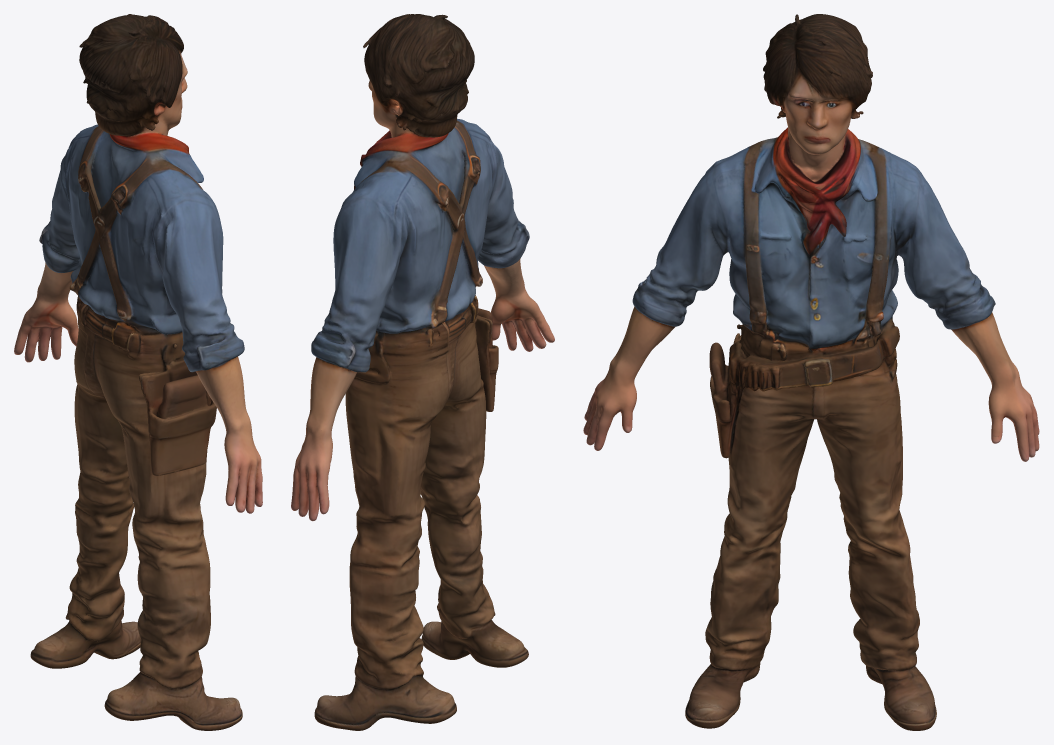
The model's file is kid_body_mesh.glb.
3 views of the same model, side by side, from view 1: azimuth 30°, elevation 25°; view 2: azimuth 150°, elevation 25°; view 3: azimuth 270°, elevation 25° (orthographic). The views are drawn at different scales.
Visible parts, largest first — view 1: tripo_node_f37e62f3-e1ef-4bf6-bfc5-476a842fdace; view 2: tripo_node_f37e62f3-e1ef-4bf6-bfc5-476a842fdace; view 3: tripo_node_f37e62f3-e1ef-4bf6-bfc5-476a842fdace.
Boxes of the visible parts, x1=… form: tripo_node_f37e62f3-e1ef-4bf6-bfc5-476a842fdace: x1=14, y1=14, x2=262, y2=730; tripo_node_f37e62f3-e1ef-4bf6-bfc5-476a842fdace: x1=291, y1=14, x2=554, y2=730; tripo_node_f37e62f3-e1ef-4bf6-bfc5-476a842fdace: x1=583, y1=14, x2=1039, y2=730.
Bounding box in the file's own units: 0.2097 × 1 × 0.6011.
1 material, 1 textured.
